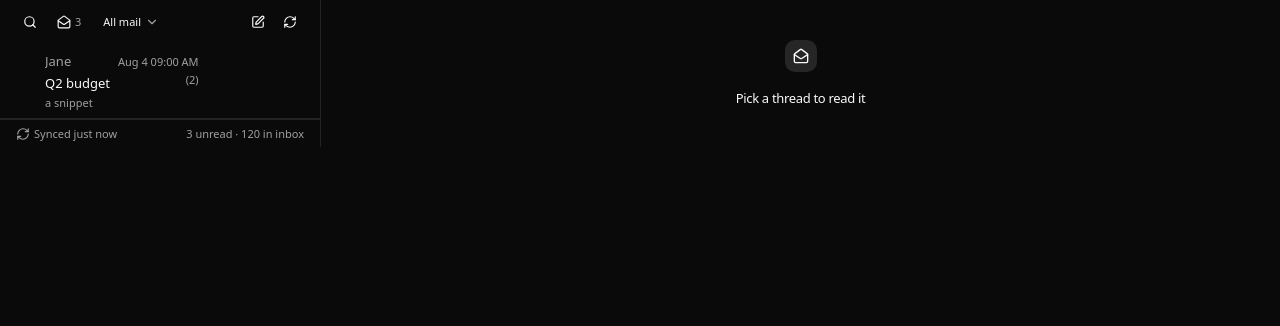
opens the newest message and collapses the history above it
Click the button "Jane Q2 budget a snippet Aug 4 09:00 AM (2)": (78, 83) x1=22 y1=44 x2=320 y2=118
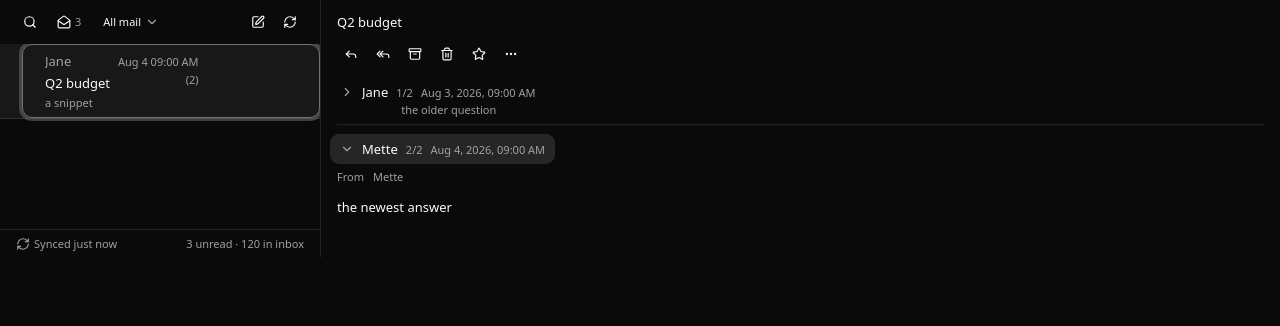
Expected: the button with aria-label "collapse message 2 of 2 from Mette" is shown, x1=329 y1=133 x2=556 y2=165
Click the button with aria-label "expand message 1 of 2 from Jane": (438, 100) x1=329 y1=84 x2=546 y2=116
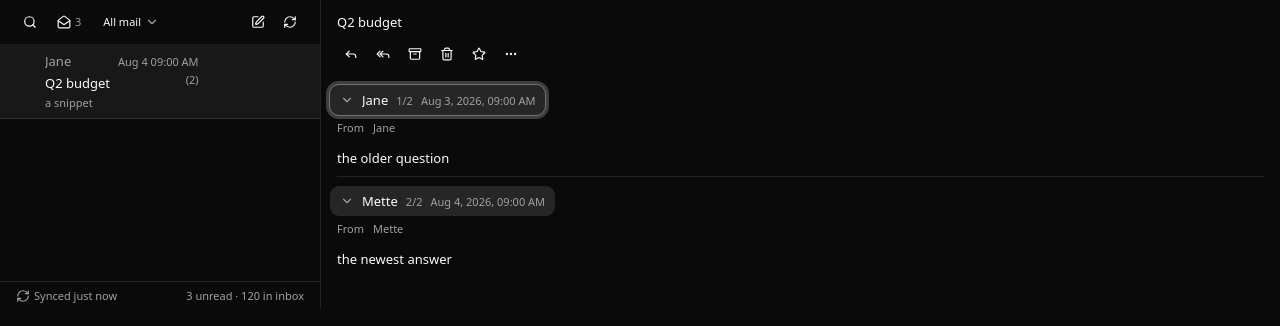
Expected: the button with aria-label "collapse message 1 of 2 from Jane" is shown, x1=329 y1=84 x2=546 y2=116
